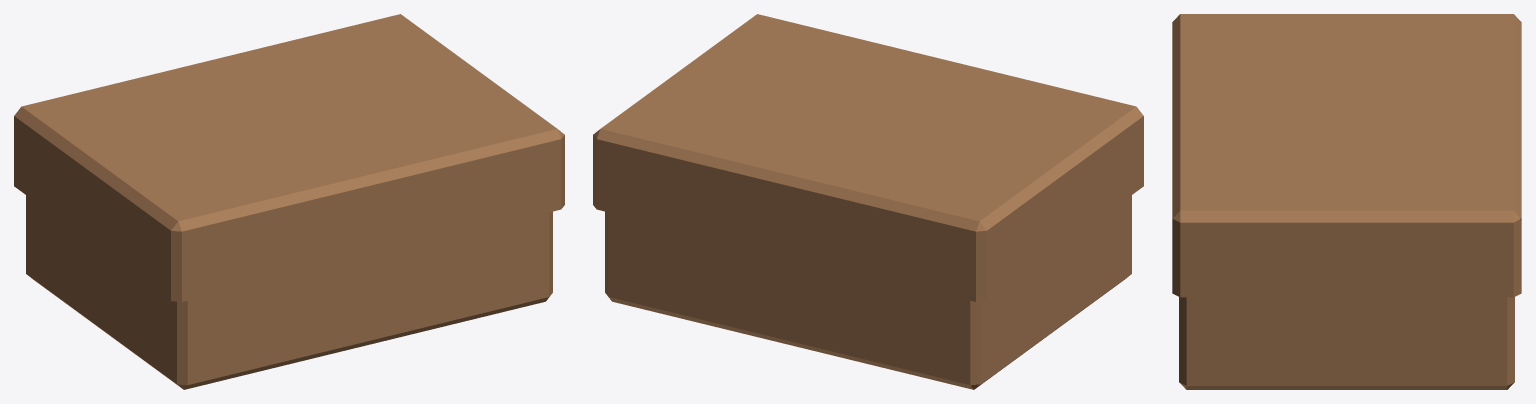
The model's file is Paper_Box.005.fbx.
The picture shows the model from 3 angles, left to right: view 1: azimuth 30°, elevation 25°; view 2: azimuth 150°, elevation 25°; view 3: azimuth 270°, elevation 25°; orthographic projection. The views are drawn at different scales.
Parts seen in each view (by area): view 1: Paper_Box.005; view 2: Paper_Box.005; view 3: Paper_Box.005.
Part boxes in pixels (left/top/right/bottom): Paper_Box.005: left=14, top=14, right=564, bottom=389; Paper_Box.005: left=593, top=14, right=1143, bottom=389; Paper_Box.005: left=1172, top=14, right=1521, bottom=389.
Bounding box in the file's own units: 50.98 × 21.39 × 36.82.
